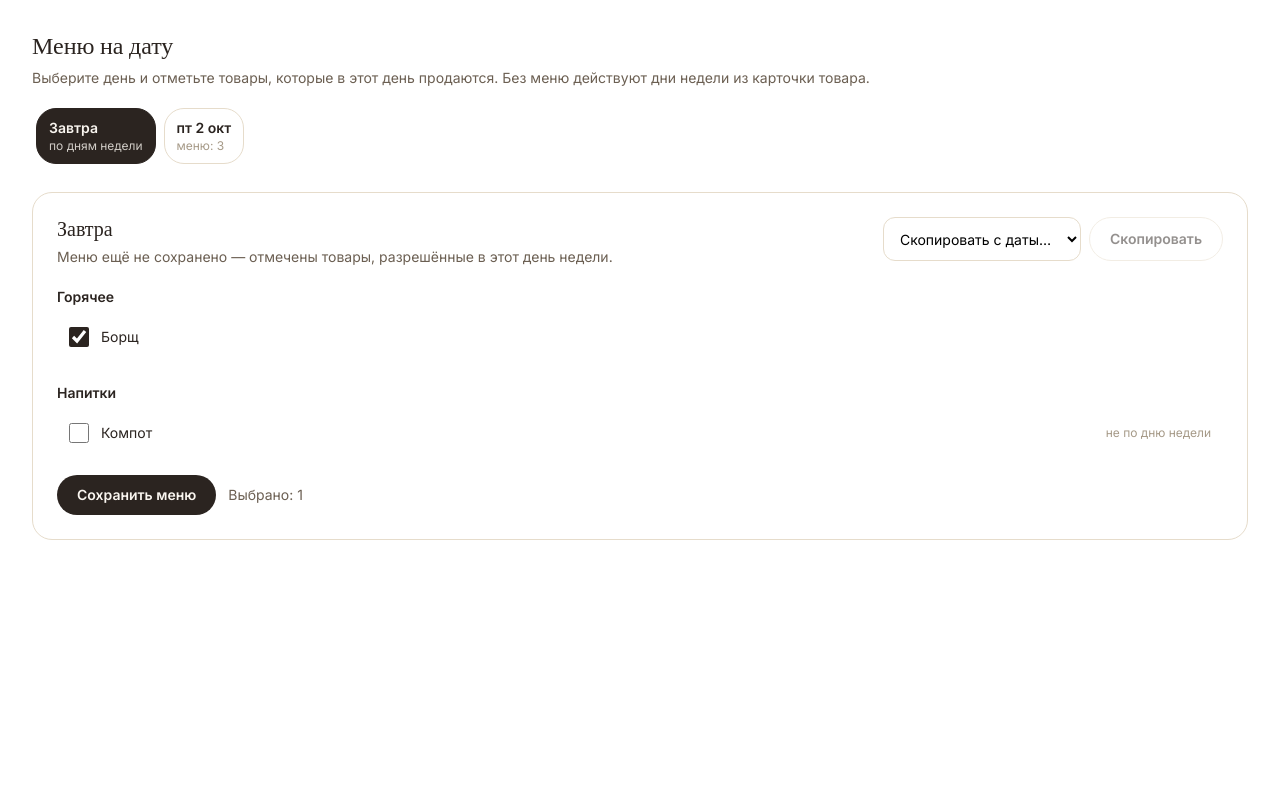
MenuPage › shows the server 400 text and an error state with a retry
Click the checkbox labelled "Компот не по дню недели". click: point(79, 433)
box: [69,423,89,443]
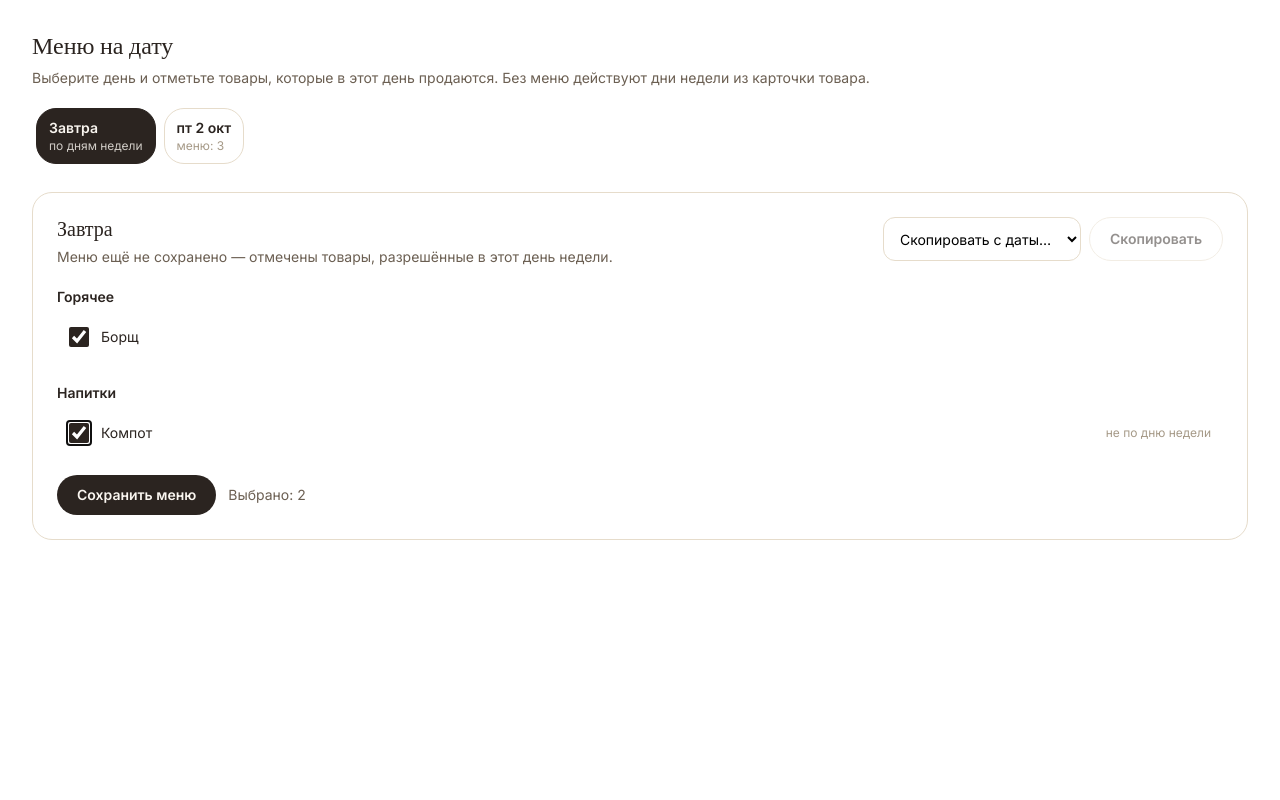
Click the button "Сохранить меню". click: point(137, 495)
box: [57,475,216,515]
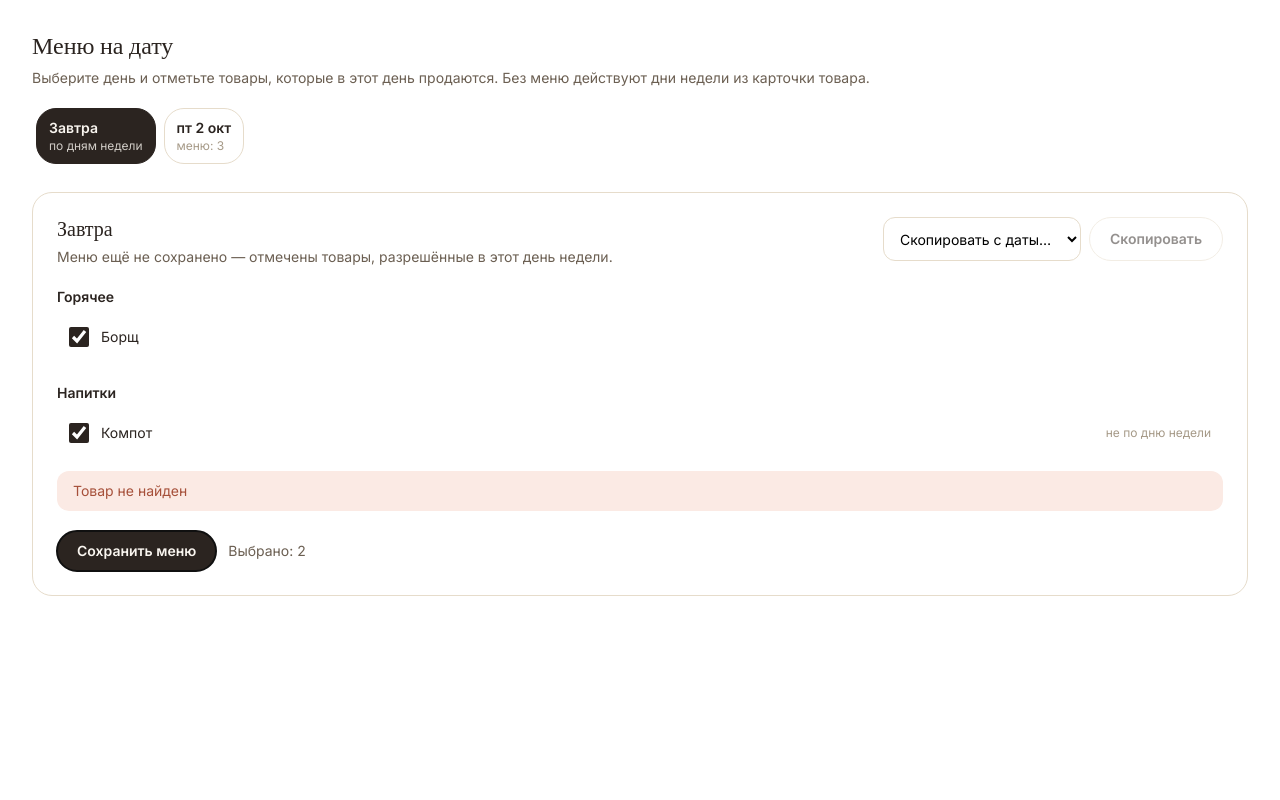
Result: the text "Товар не найден" is shown at [57,471,1223,511]
